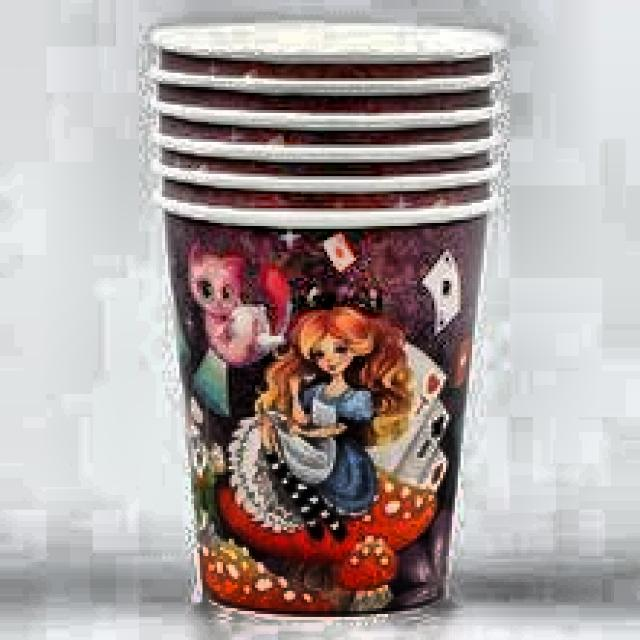Cup: (144, 3, 505, 617)
